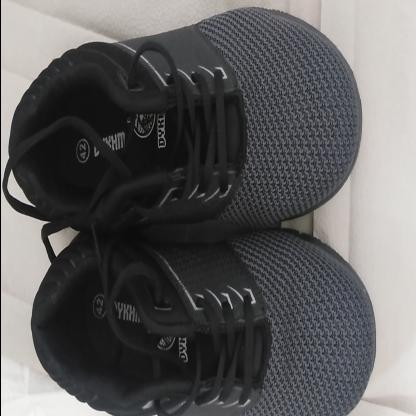safety-shoe: (0, 6, 378, 416)
